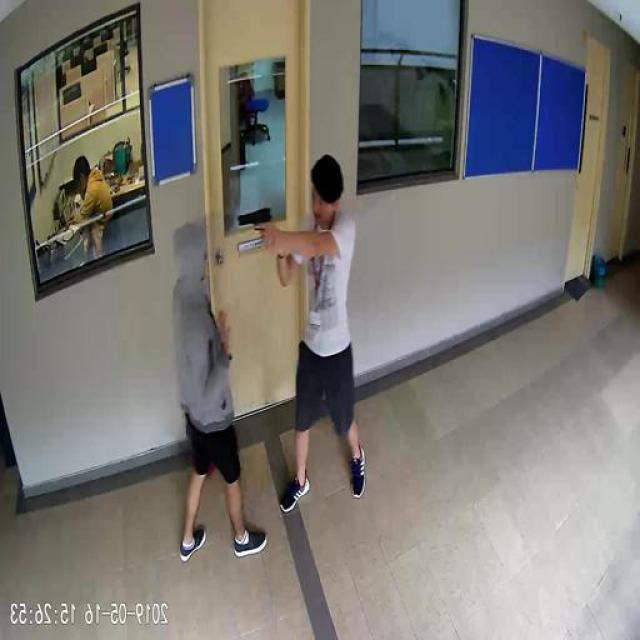Gun: (240, 204, 274, 248)
